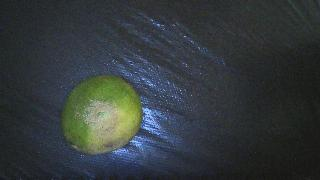DESECHO: (61, 75, 143, 155)
